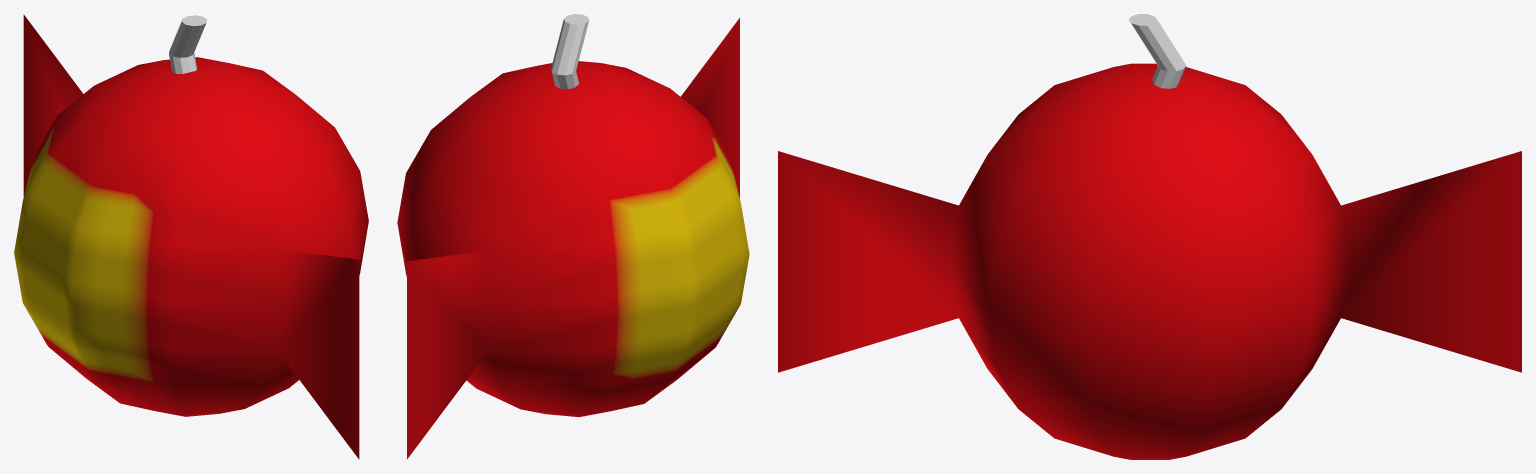
The model's file is BOMBOMBA.fbx.
3 views of the same model, side by side, from view 1: azimuth 30°, elevation 25°; view 2: azimuth 150°, elevation 25°; view 3: azimuth 270°, elevation 25° (orthographic). The views are drawn at different scales.
Parts seen in each view (by area): view 1: BOMBOMBA, Pavio; view 2: BOMBOMBA, Pavio; view 3: BOMBOMBA, Pavio.
Part boxes in pixels (x1=…): BOMBOMBA: x1=14, y1=14, x2=368, y2=459; Pavio: x1=169, y1=15, x2=206, y2=73; BOMBOMBA: x1=397, y1=18, x2=749, y2=459; Pavio: x1=551, y1=14, x2=588, y2=89; BOMBOMBA: x1=778, y1=63, x2=1521, y2=459; Pavio: x1=1129, y1=14, x2=1186, y2=88.
Bounding box in the file's own units: 1.9 × 2.33 × 3.7.
